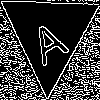A: (24, 10, 70, 66)
